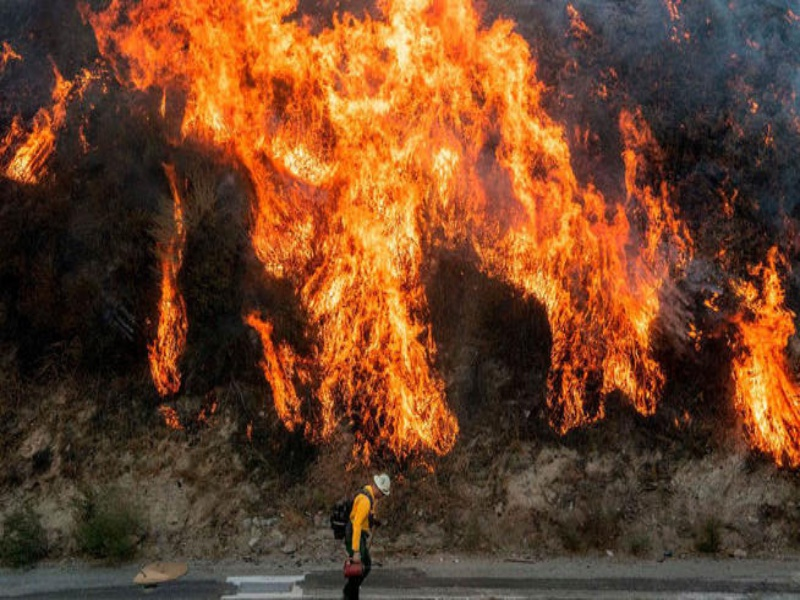fire: (69, 10, 800, 470), (1, 63, 68, 194)
